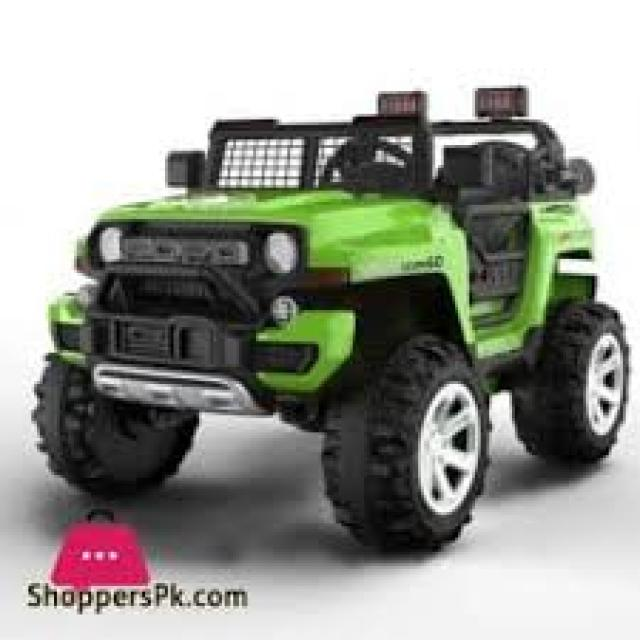Car: (29, 82, 632, 552)
